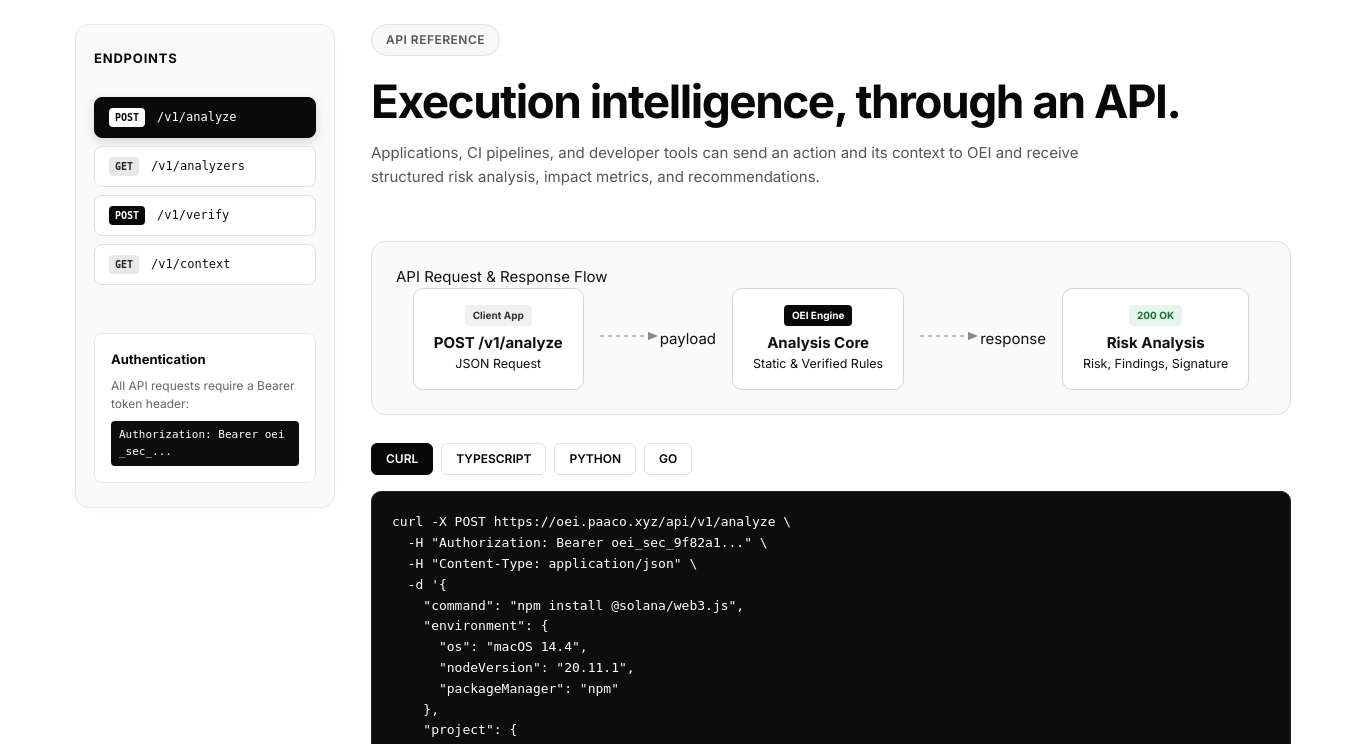
Test: ApiPage › renders the TYPESCRIPT sample when its tab is selected
The width and height of the screenshot is (1366, 744).
Click the button "TYPESCRIPT": point(494, 459) top-left (441, 443), bottom-right (546, 475)
(page scrolled)
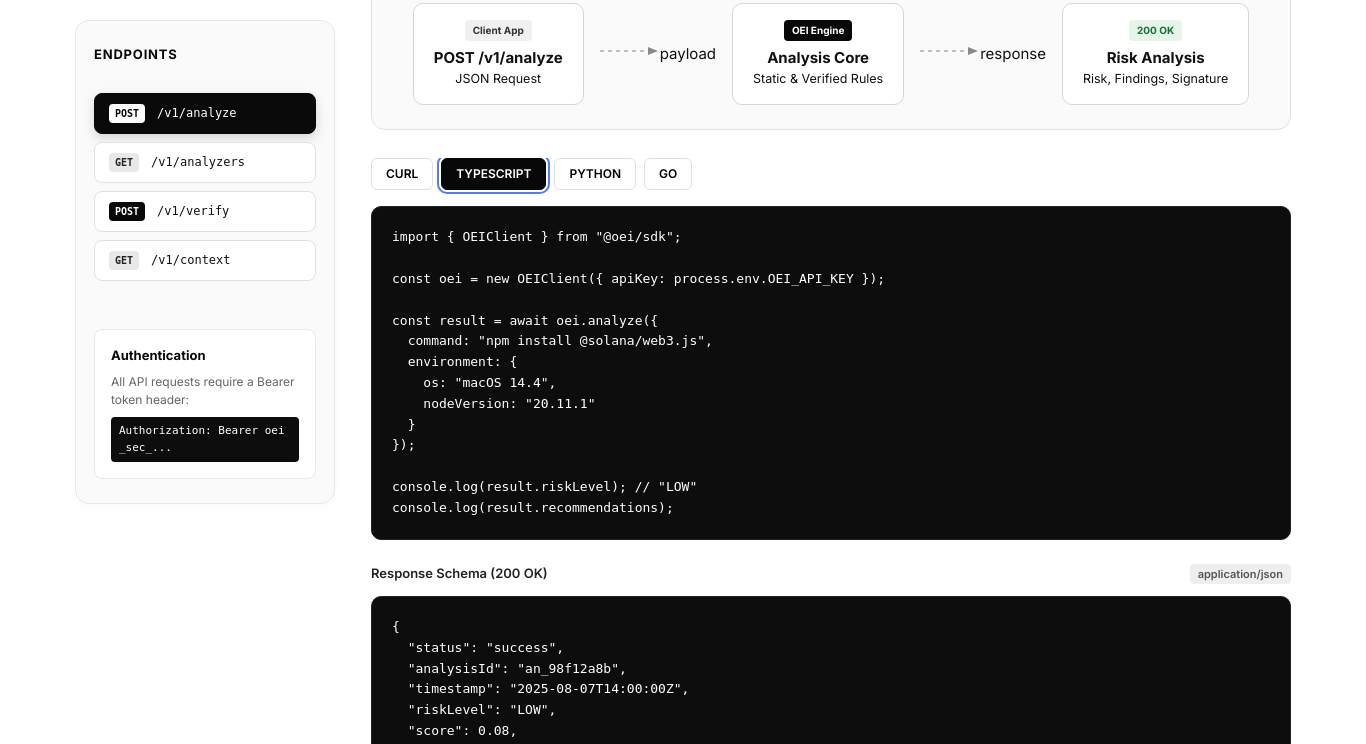
Expected: the text "import { OEIClient } from \"@oei/sdk\";" is shown, top-left (392, 229), bottom-right (885, 515)
